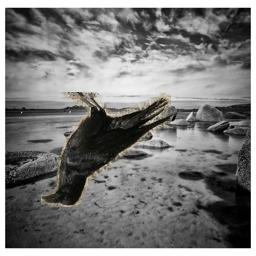Crow: (41, 92, 171, 207)
